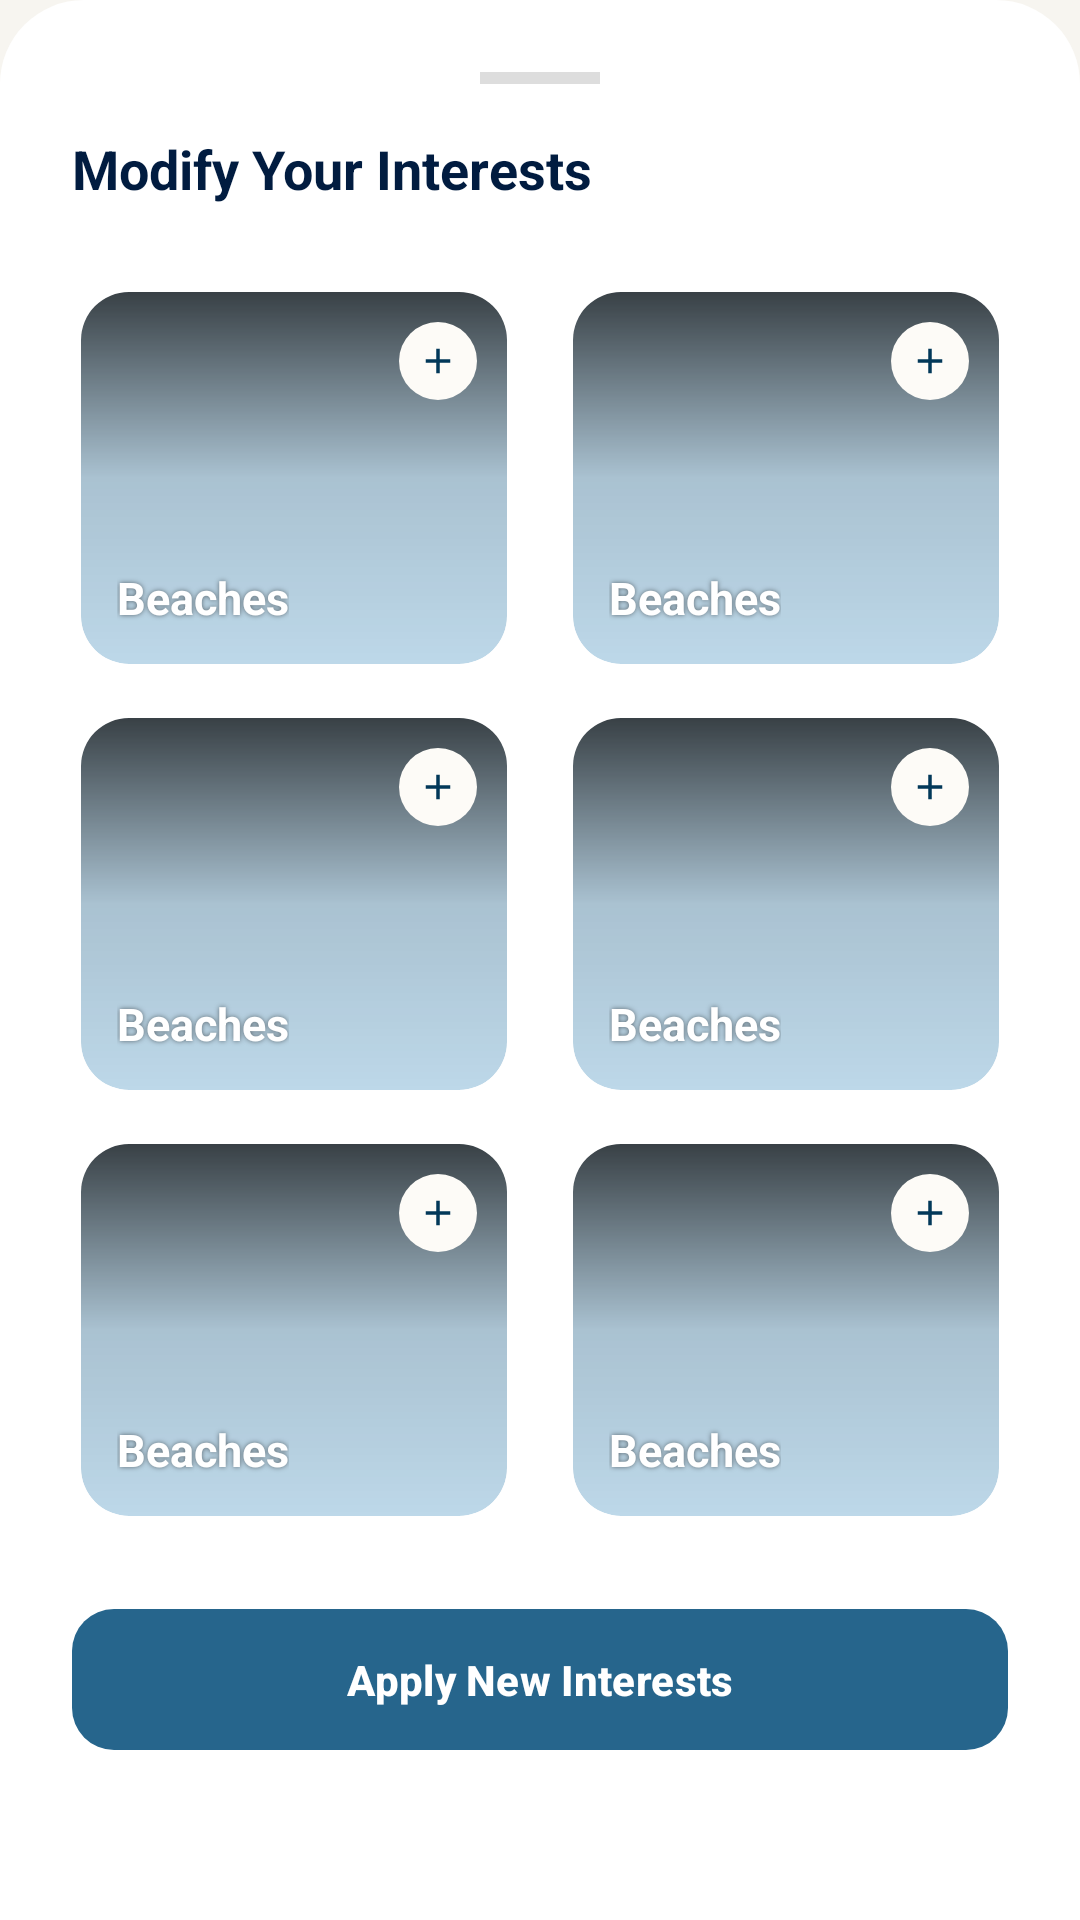

Named icons in this screenshot (1080 × 1920) and their centers, (x,y):
interests plus: (438,361), (930,361), (438,787), (930,787), (438,1213), (930,1213)
